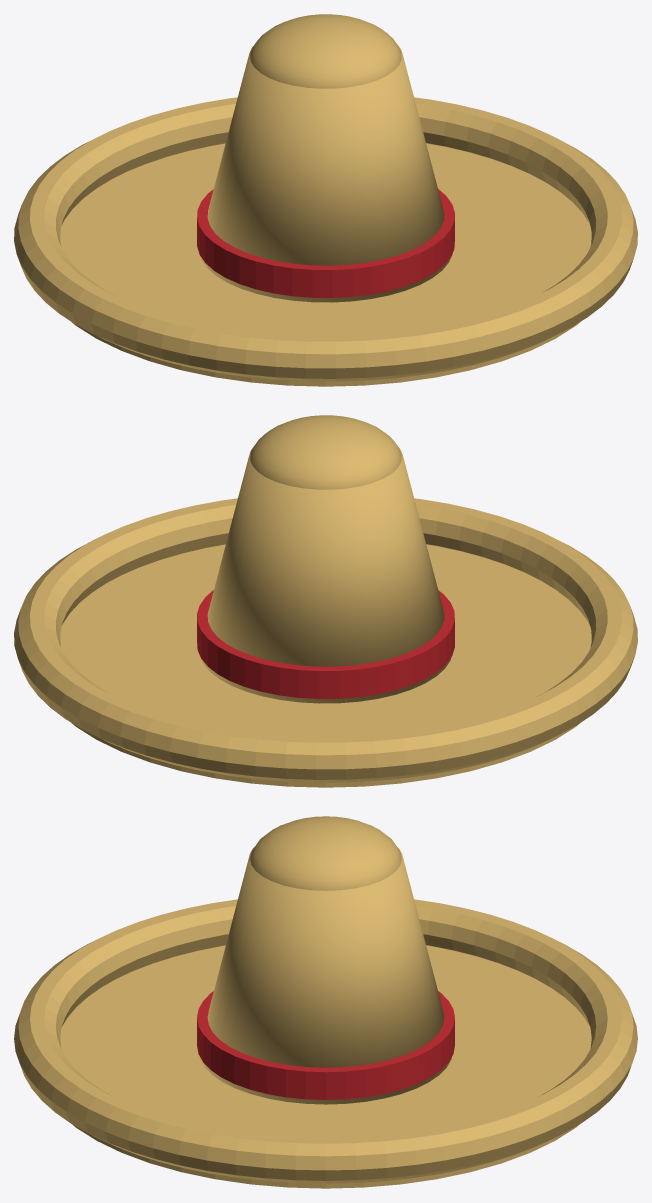
The model's file is sombrero_paja.glb.
3 renders of one model, top to bottom at view 1: azimuth 30°, elevation 25°; view 2: azimuth 150°, elevation 25°; view 3: azimuth 270°, elevation 25°, orthographic.
Visible parts, largest first — view 1: Torus.003, Cylinder, Cone, Cylinder.001, Sphere; view 2: Torus.003, Cylinder, Cone, Cylinder.001, Sphere; view 3: Torus.003, Cylinder, Cone, Cylinder.001, Sphere.
Part boxes in pixels (x1=…): Torus.003: x1=14, y1=97, x2=637, y2=381; Cylinder: x1=60, y1=143, x2=591, y2=386; Cone: x1=200, y1=45, x2=452, y2=302; Cylinder.001: x1=197, y1=189, x2=454, y2=297; Sphere: x1=250, y1=14, x2=401, y2=88; Torus.003: x1=14, y1=498, x2=637, y2=782; Cylinder: x1=60, y1=544, x2=591, y2=787; Cone: x1=199, y1=446, x2=451, y2=703; Cylinder.001: x1=197, y1=590, x2=454, y2=698; Sphere: x1=250, y1=415, x2=401, y2=489; Torus.003: x1=14, y1=899, x2=637, y2=1183; Cylinder: x1=60, y1=945, x2=591, y2=1188; Cone: x1=200, y1=847, x2=451, y2=1104; Cylinder.001: x1=197, y1=991, x2=454, y2=1099; Sphere: x1=250, y1=816, x2=401, y2=890.
Size of the model in its own units: 1.62 by 0.68 by 1.62.
